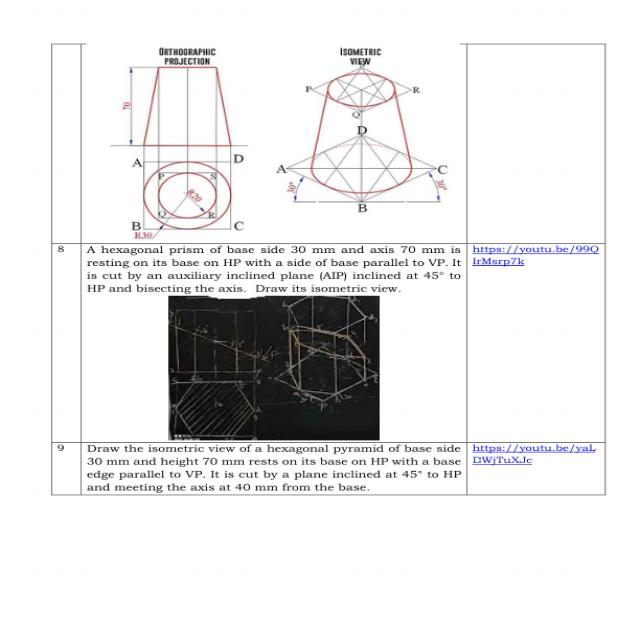Drawings: (270, 67, 456, 216), (118, 64, 252, 240), (274, 296, 380, 411), (169, 305, 267, 375), (169, 377, 264, 440)
